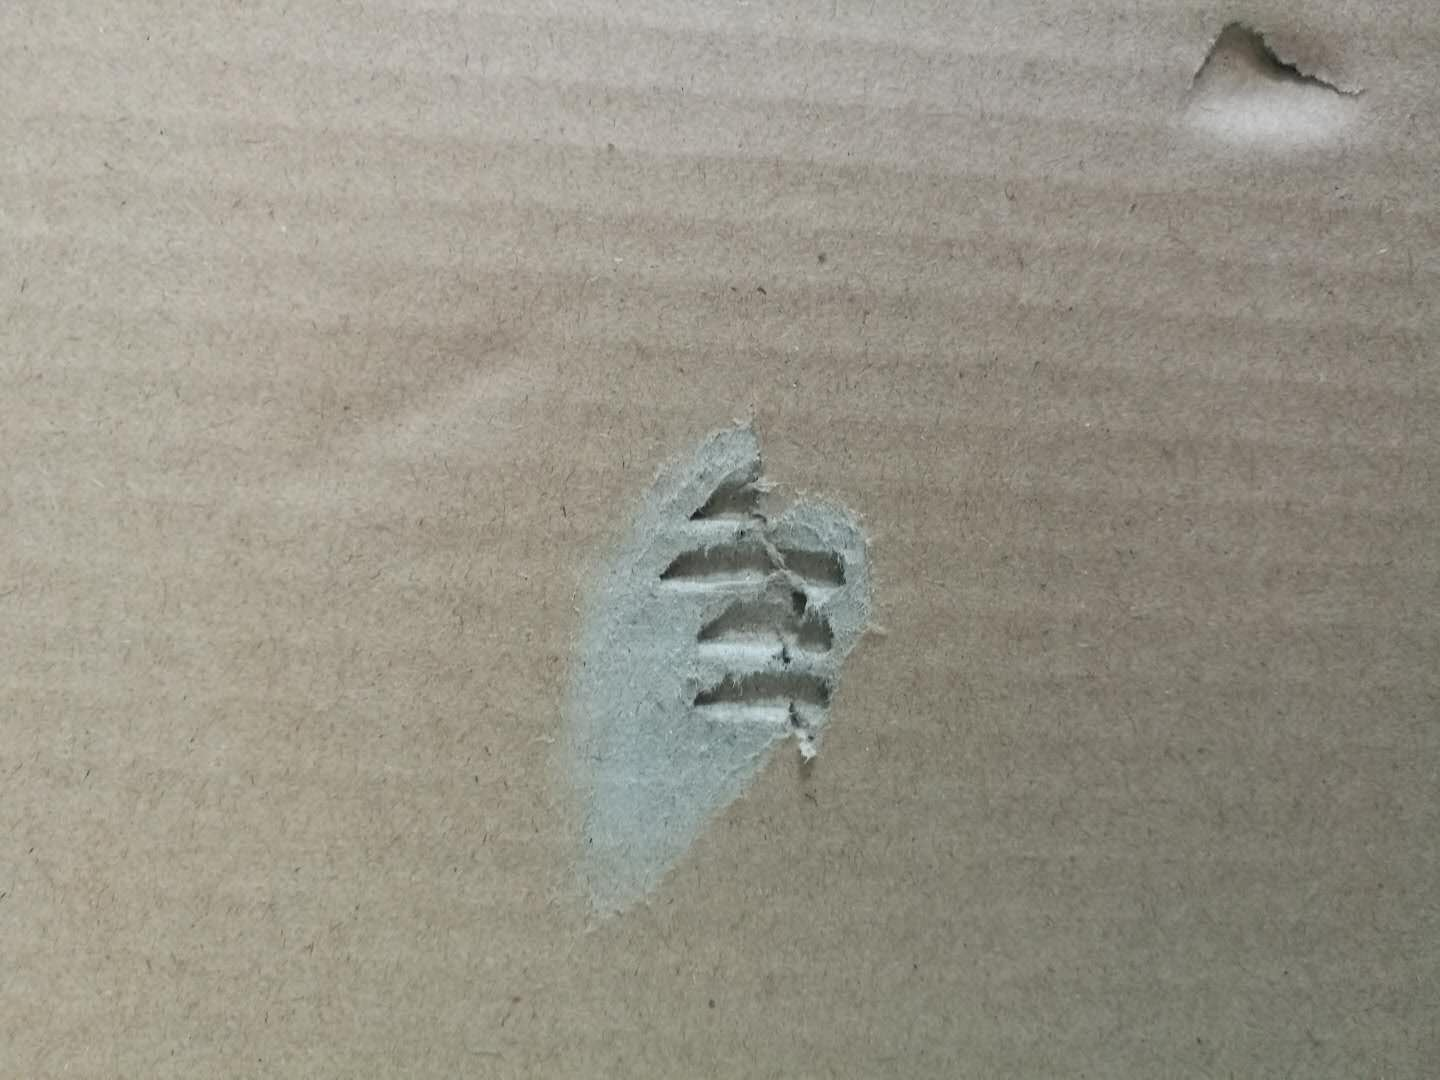defect: (548, 379, 914, 977), (244, 279, 604, 478), (1151, 3, 1395, 169)
